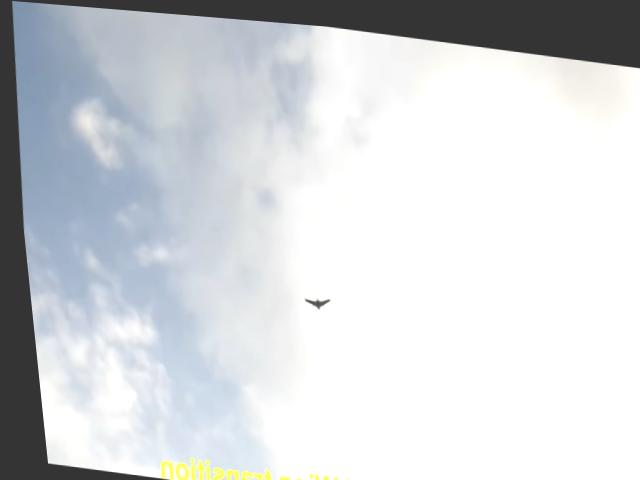plane: (301, 291, 325, 306)
